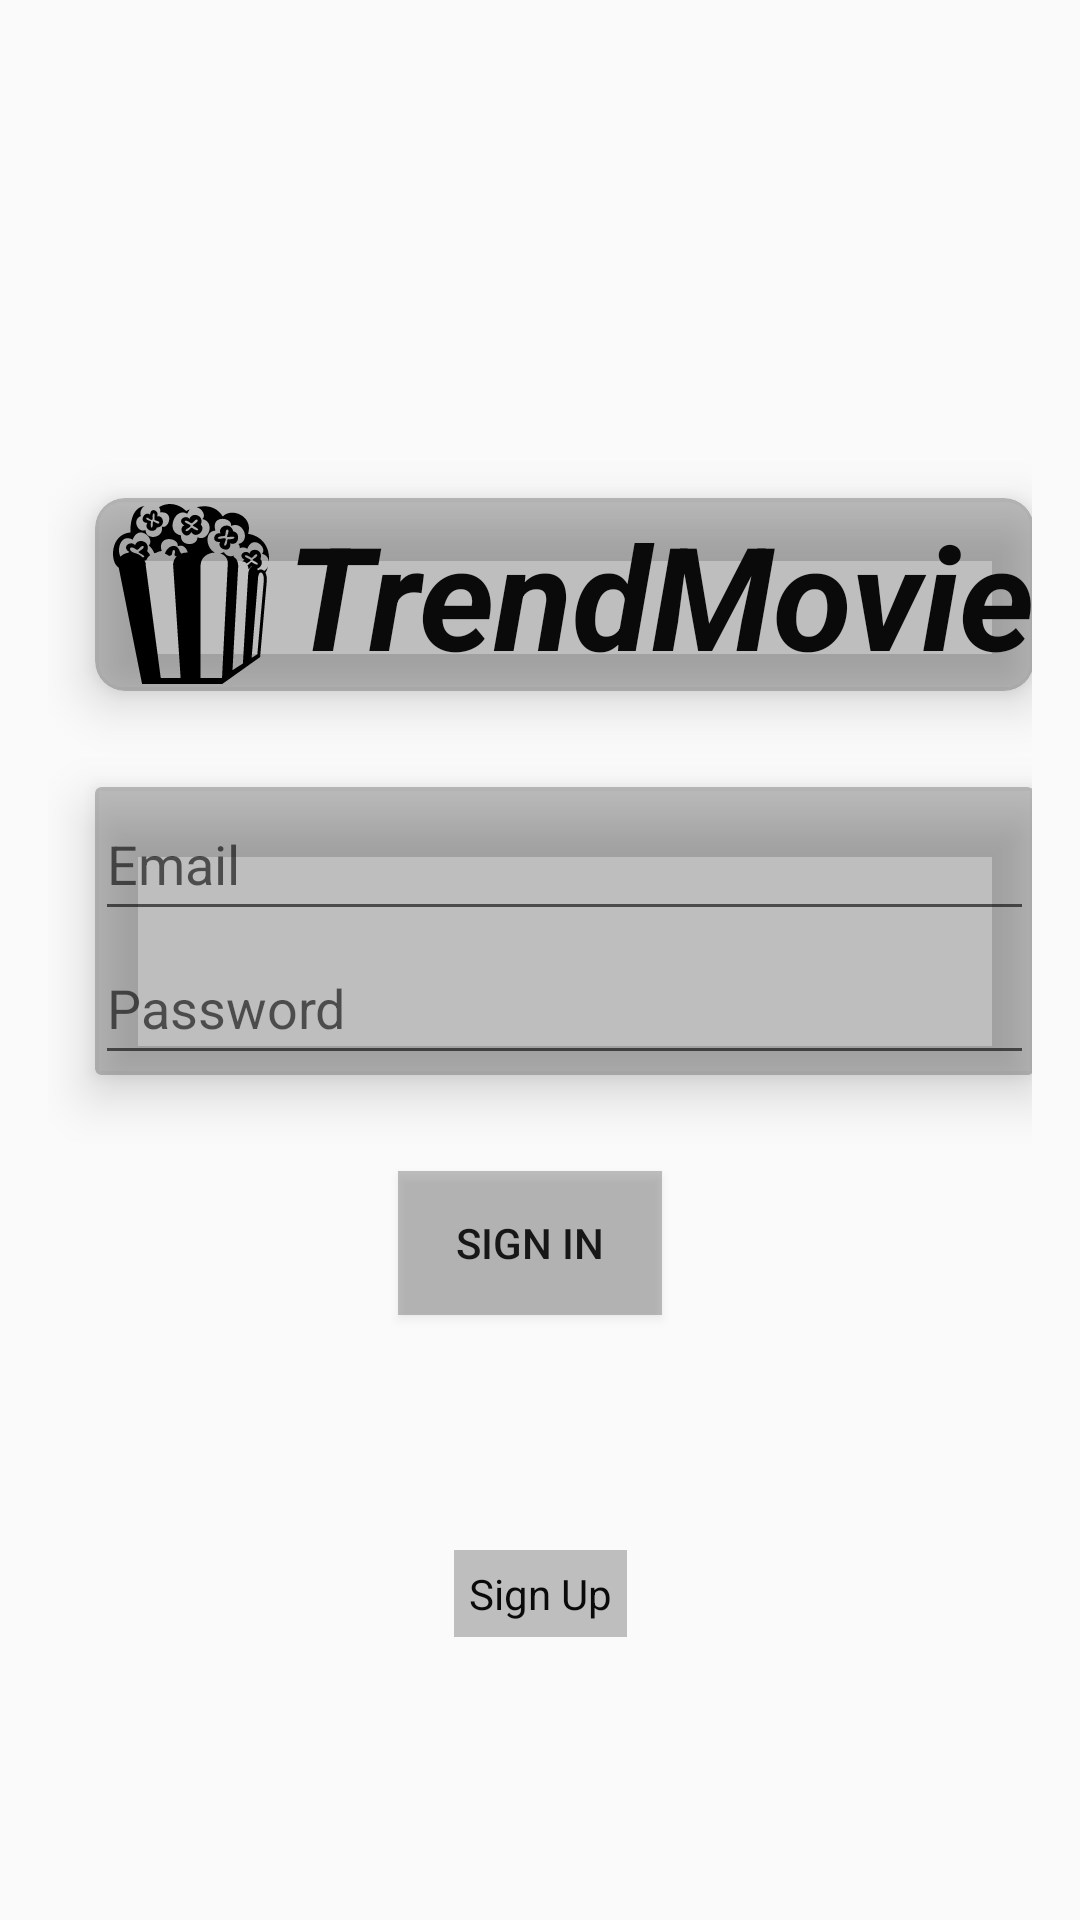

Screen size 1080x1920. Icon name, then its box in pixels as (x1, y1, x2, y2):
popcorn: (95, 498, 287, 690)
